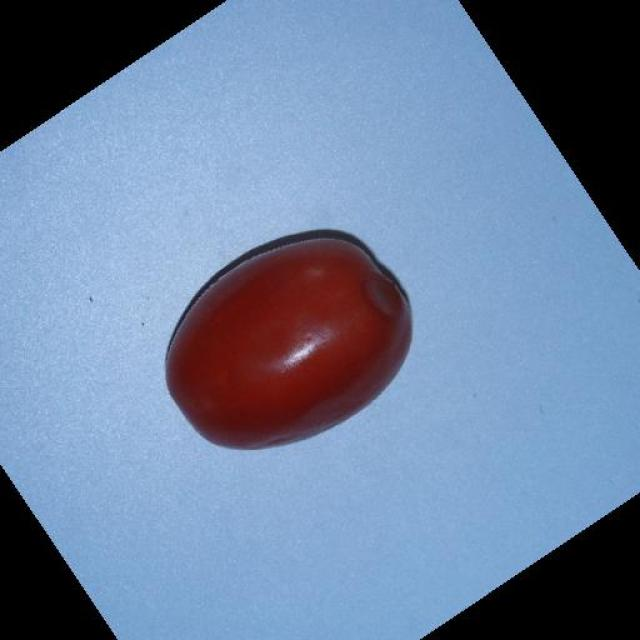Stale_tomato: (150, 227, 430, 453)
